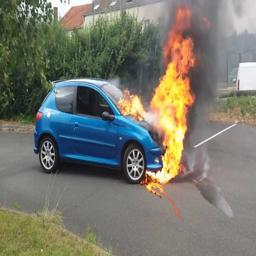fire: (119, 5, 198, 183)
